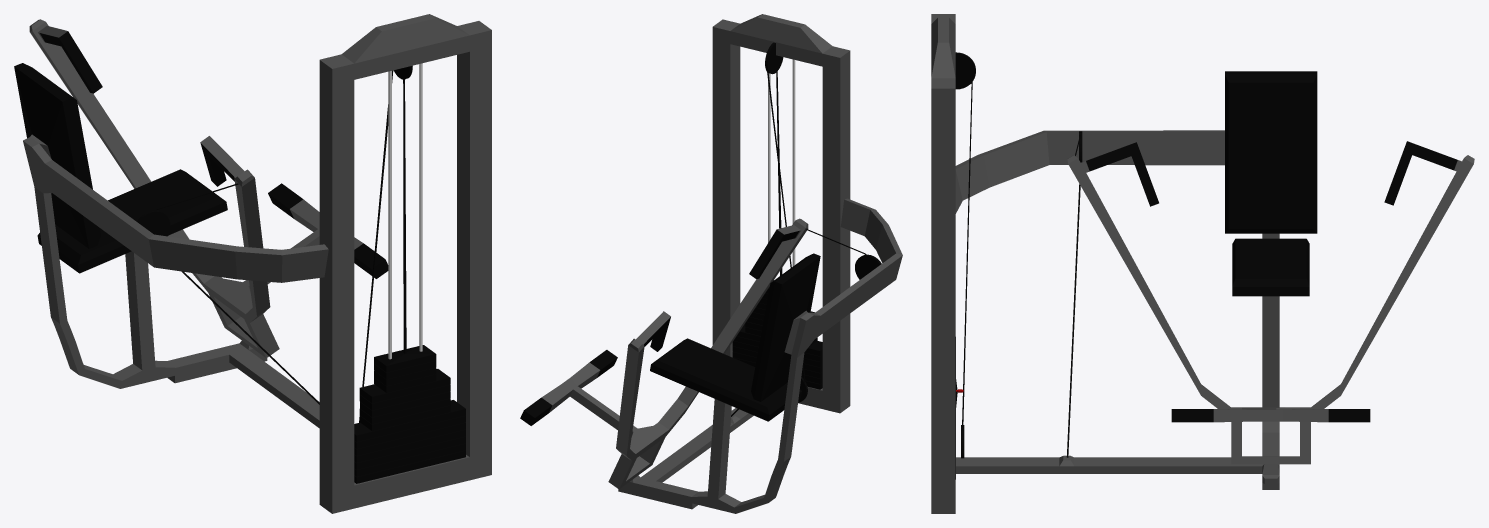
File: ChestPressMachine.001.fbx
The picture shows the model from 3 angles, left to right: view 1: azimuth 30°, elevation 25°; view 2: azimuth 150°, elevation 25°; view 3: azimuth 270°, elevation 25°; orthographic projection. The views are drawn at different scales.
Visible parts, largest first — view 1: ChestPressMachine.001; view 2: ChestPressMachine.001; view 3: ChestPressMachine.001.
Boxes of the visible parts, x1=… form: ChestPressMachine.001: x1=14, y1=14, x2=491, y2=513; ChestPressMachine.001: x1=520, y1=14, x2=902, y2=513; ChestPressMachine.001: x1=931, y1=14, x2=1474, y2=513.
Size of the model in its own units: 120 by 173 by 190.
